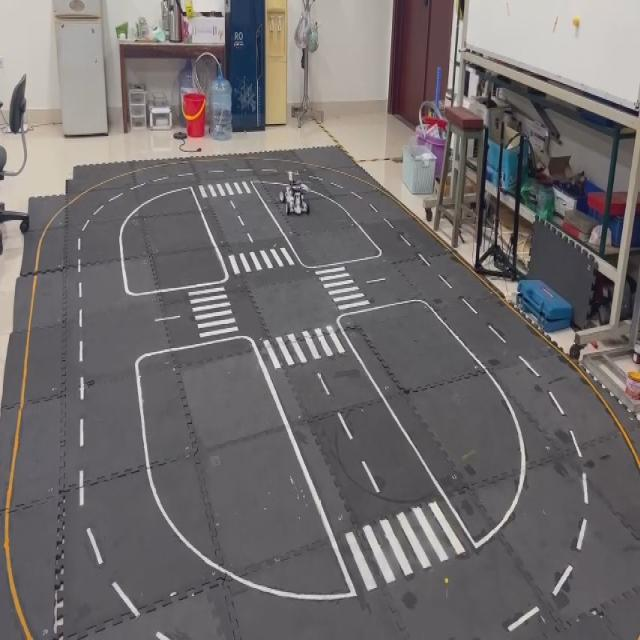SiCo-CAR: (514, 276, 573, 333), (278, 168, 310, 216)
